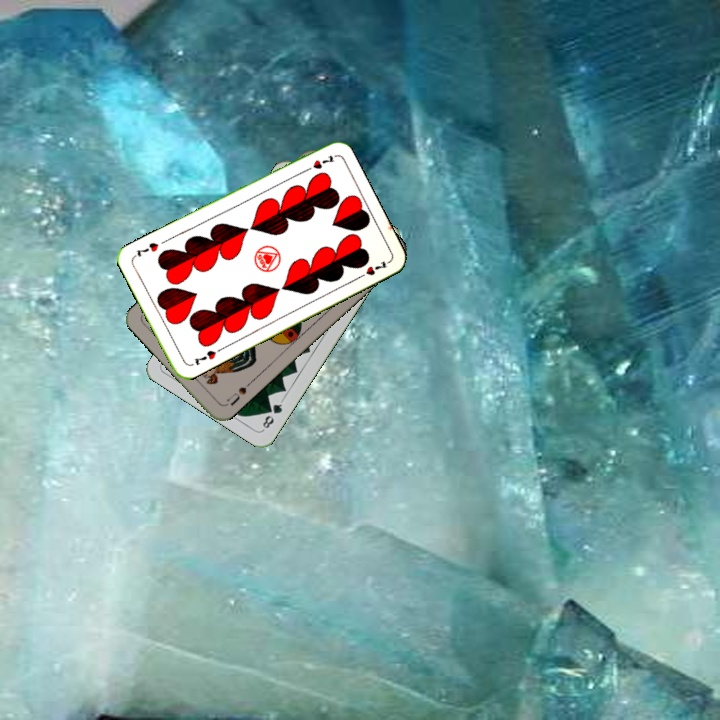G8: (258, 396, 285, 433)
H7: (299, 151, 337, 175), (190, 346, 219, 368)
SU: (223, 377, 254, 408)
